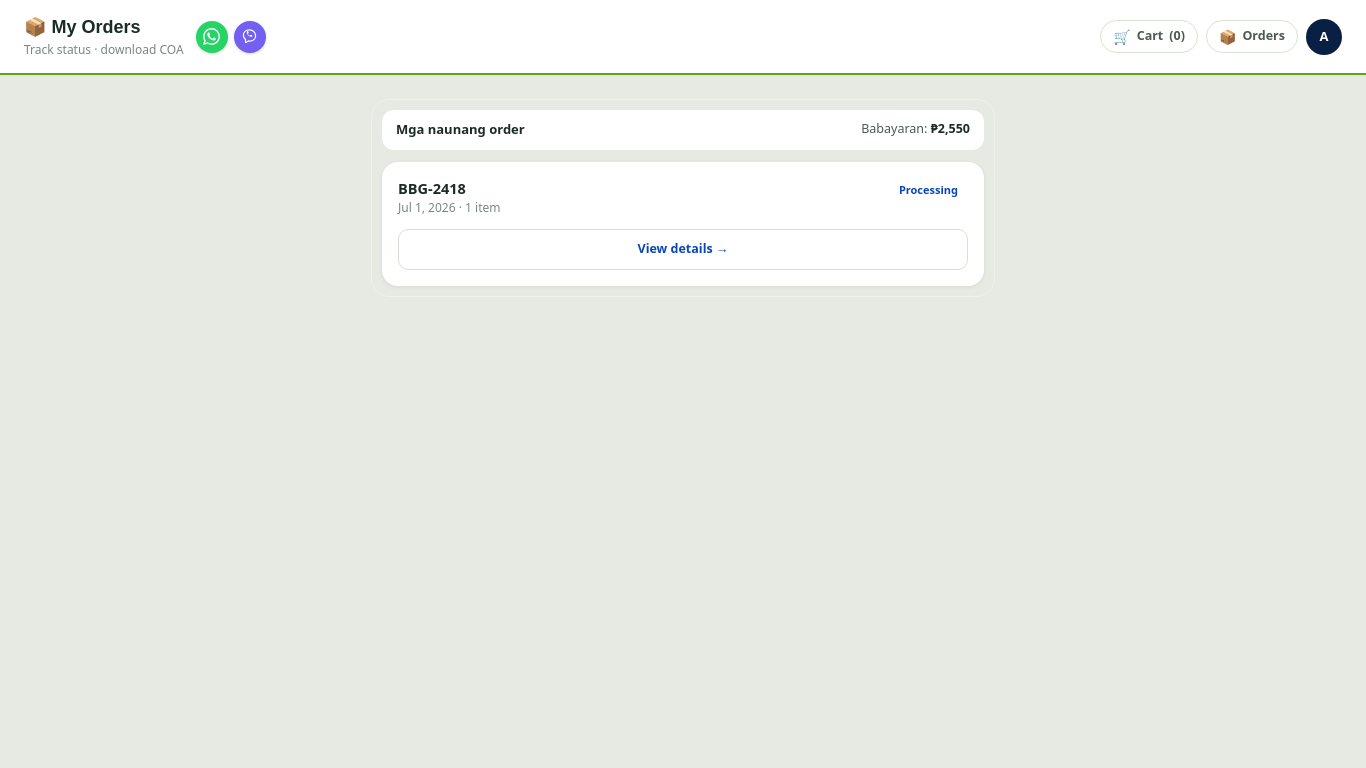
Test: packing fee status on a hatian order › says the fee is charged at the final checkout while nothing is settled
Click the text "BBG-2418".
click(432, 188)  # box [398,178,466,198]
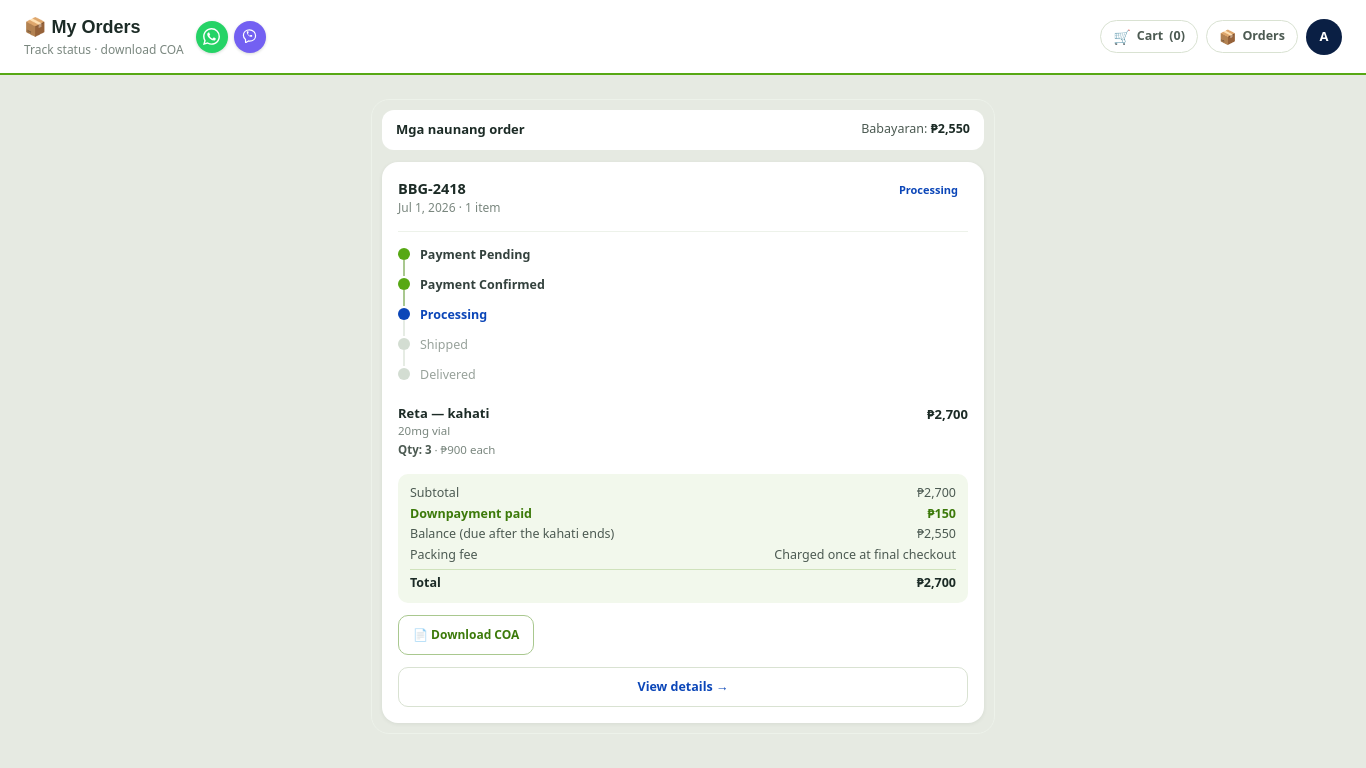
Result: the text "Charged once at final checkout" is shown at [774,546,956,565]
